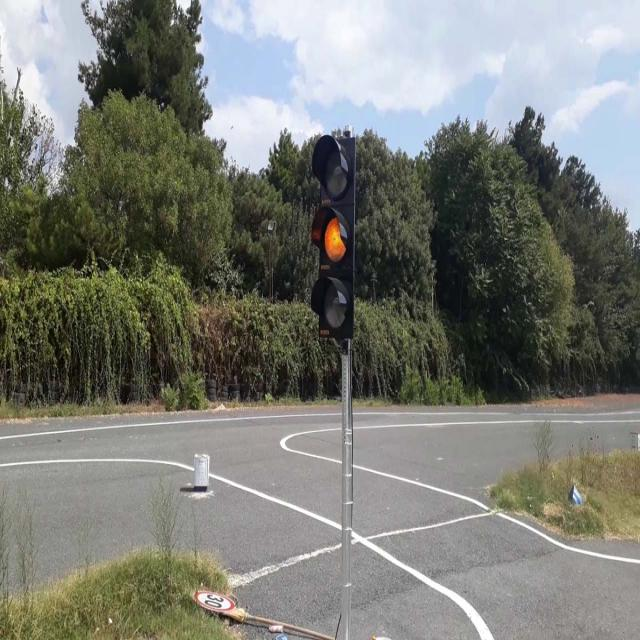sari: (316, 136, 354, 338)
